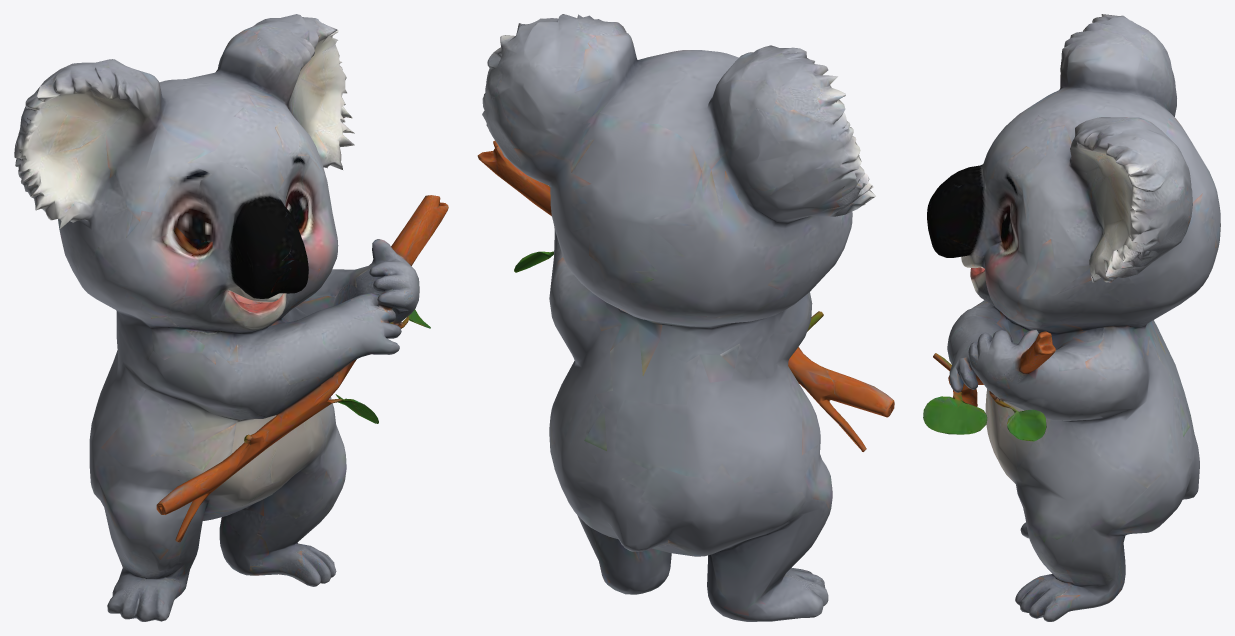
Rendered from koala.glb.
The picture shows the model from 3 angles, left to right: view 1: azimuth 30°, elevation 25°; view 2: azimuth 150°, elevation 25°; view 3: azimuth 270°, elevation 25°; orthographic projection. The views are drawn at different scales.
Size of the model in its own units: 1.46 by 1.89 by 1.01.
Materials: 1 (1 with a texture image).
